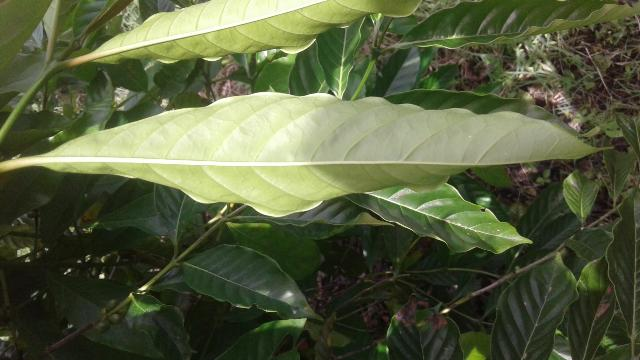healthy: (28, 90, 610, 215)
